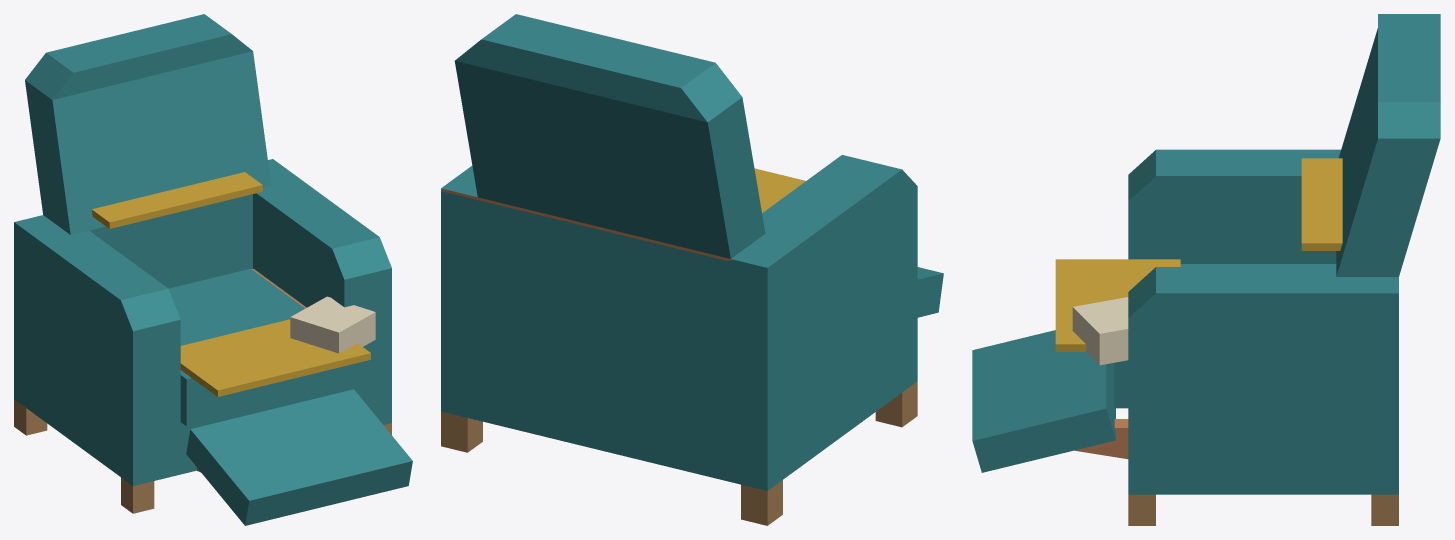
Rendered from loungeChairRelax.glb.
3 renders of one model, left to right at view 1: azimuth 30°, elevation 25°; view 2: azimuth 150°, elevation 25°; view 3: azimuth 270°, elevation 25°, orthographic. The views are drawn at different scales.
Visible parts, largest first — view 1: loungeChairRelax(Clone); view 2: loungeChairRelax(Clone); view 3: loungeChairRelax(Clone).
Boxes of the visible parts, left/top/right/bottom form: loungeChairRelax(Clone): left=14, top=14, right=412, bottom=525; loungeChairRelax(Clone): left=441, top=14, right=943, bottom=525; loungeChairRelax(Clone): left=972, top=14, right=1440, bottom=525.
Bounding box in the file's own units: 0.49 × 0.63 × 0.6747.
